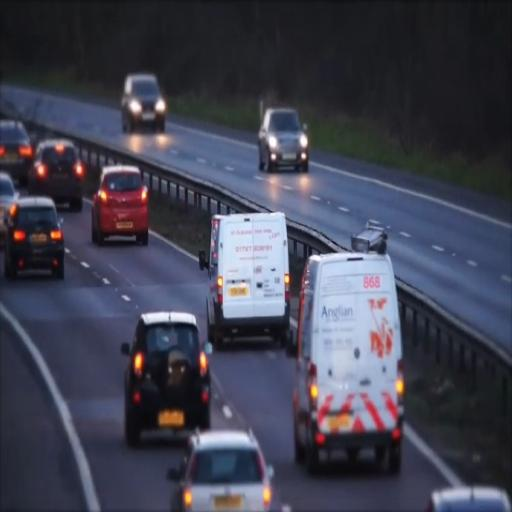car: (120, 309, 210, 445), (169, 426, 275, 511), (4, 197, 64, 279), (91, 164, 149, 246), (26, 138, 86, 212), (257, 106, 308, 172), (120, 73, 166, 133), (0, 118, 35, 185), (0, 170, 20, 246)
truck: (292, 231, 404, 476), (201, 208, 290, 349)
